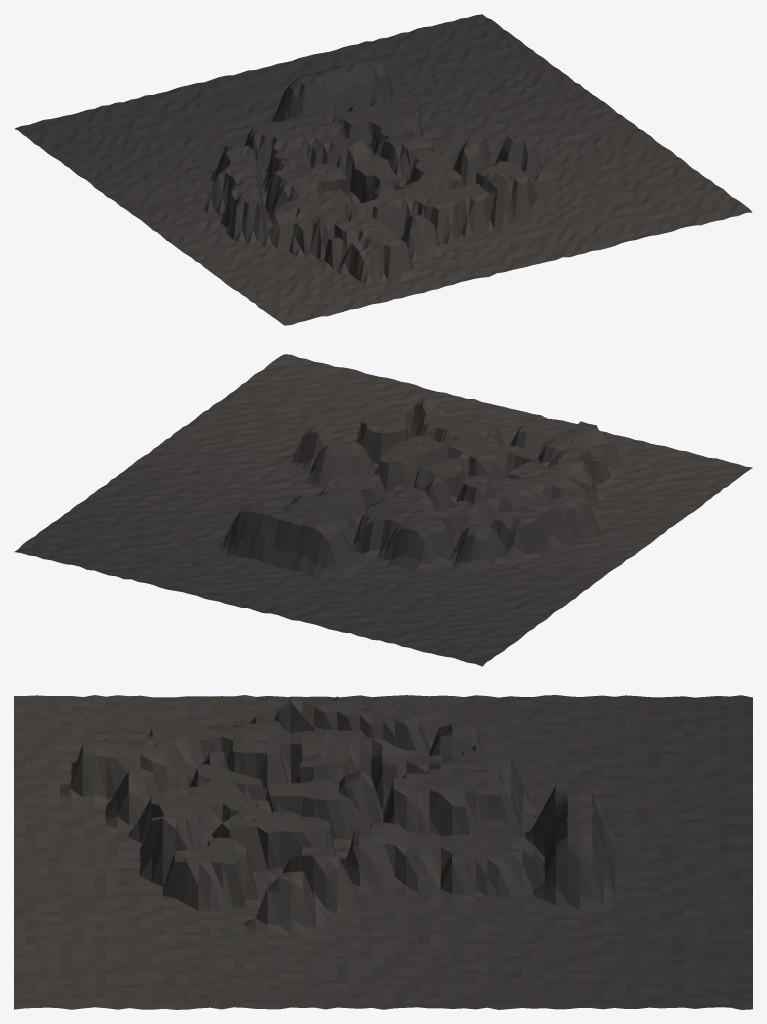
The model's file is Terrain.fbx.
3 views of the same model, one above another, from view 1: azimuth 30°, elevation 25°; view 2: azimuth 150°, elevation 25°; view 3: azimuth 270°, elevation 25° (orthographic). The views are drawn at different scales.
Parts seen in each view (by area): view 1: TerrainMesh; view 2: TerrainMesh; view 3: TerrainMesh.
Boxes of the visible parts, <box> form: TerrainMesh: <box>14,14,752,325</box>; TerrainMesh: <box>14,354,752,666</box>; TerrainMesh: <box>14,695,752,1009</box>.
Bounding box in the file's own units: 50000 × 4502 × 50000.
1 material, 1 textured.
